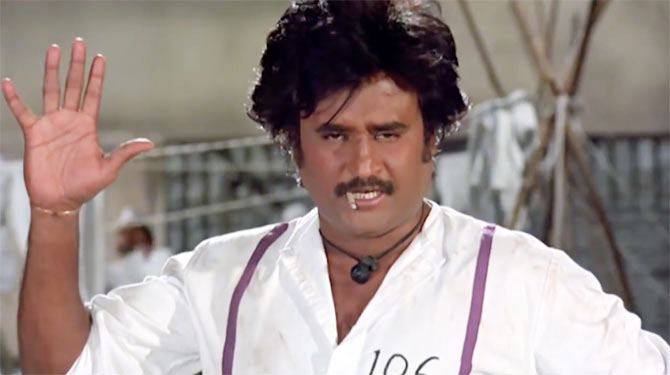cigarette: (344, 191, 359, 211)
